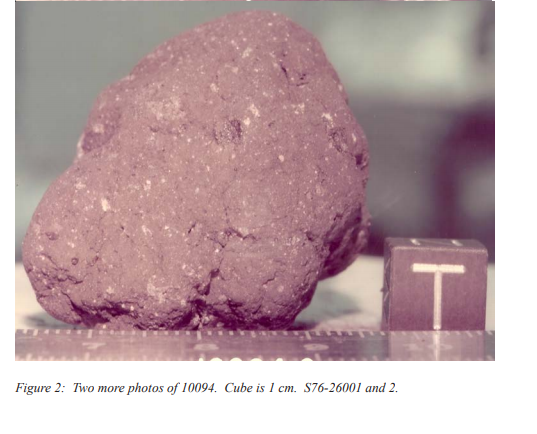Breccia: (26, 21, 369, 326)
